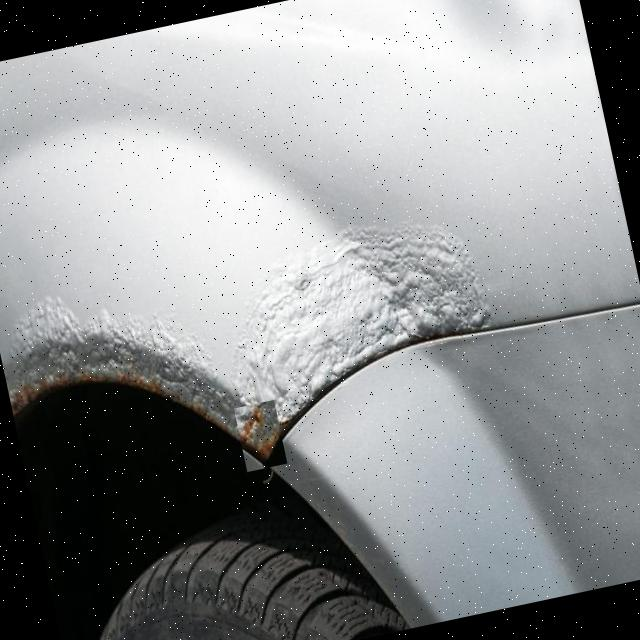Corrosion: (200, 200, 511, 462), (47, 473, 409, 640)
